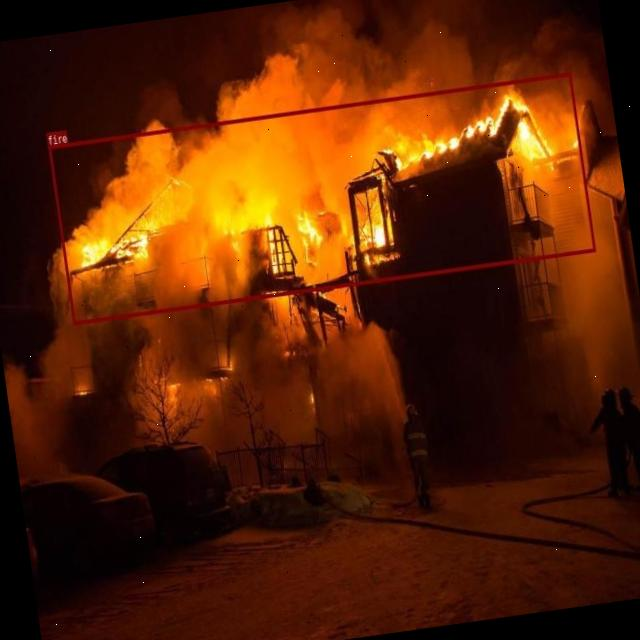fire: (48, 72, 595, 324)
